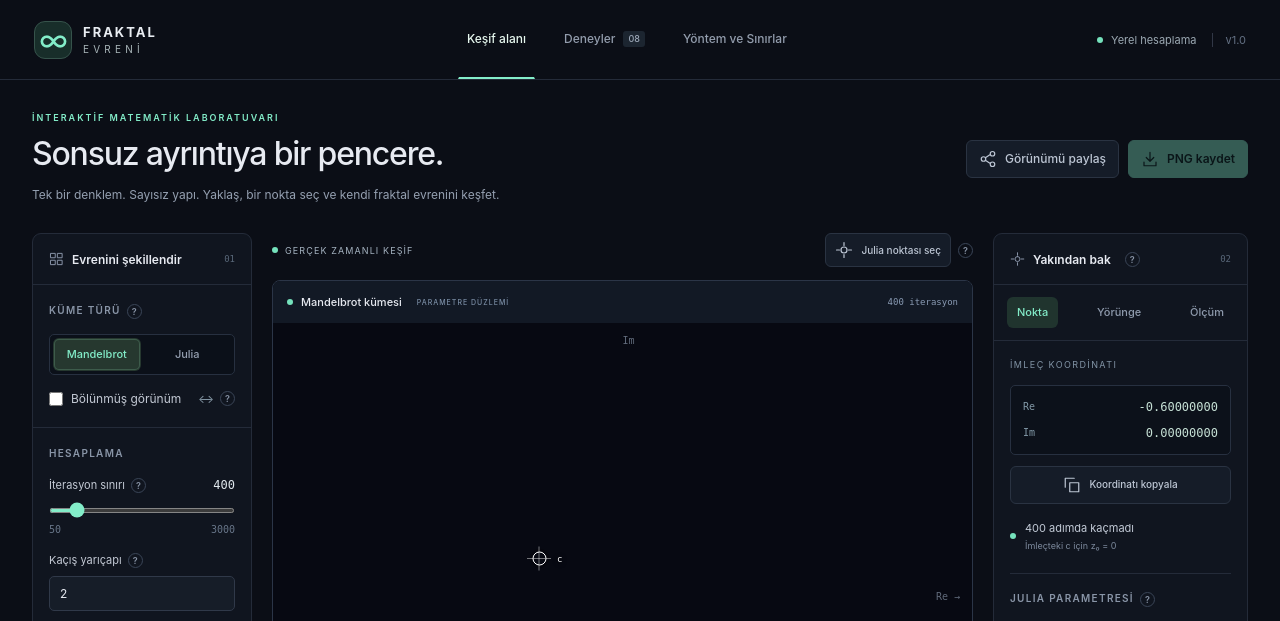
Test: UI davranışı › sekiz deney ve deneyden keşfe geçiş
What coordinates should you click on to do the following:
click the button "Deneyler 08"
I would click on:
 (604, 40)
Its box is 555,0 -> 654,79.
(page scrolled)
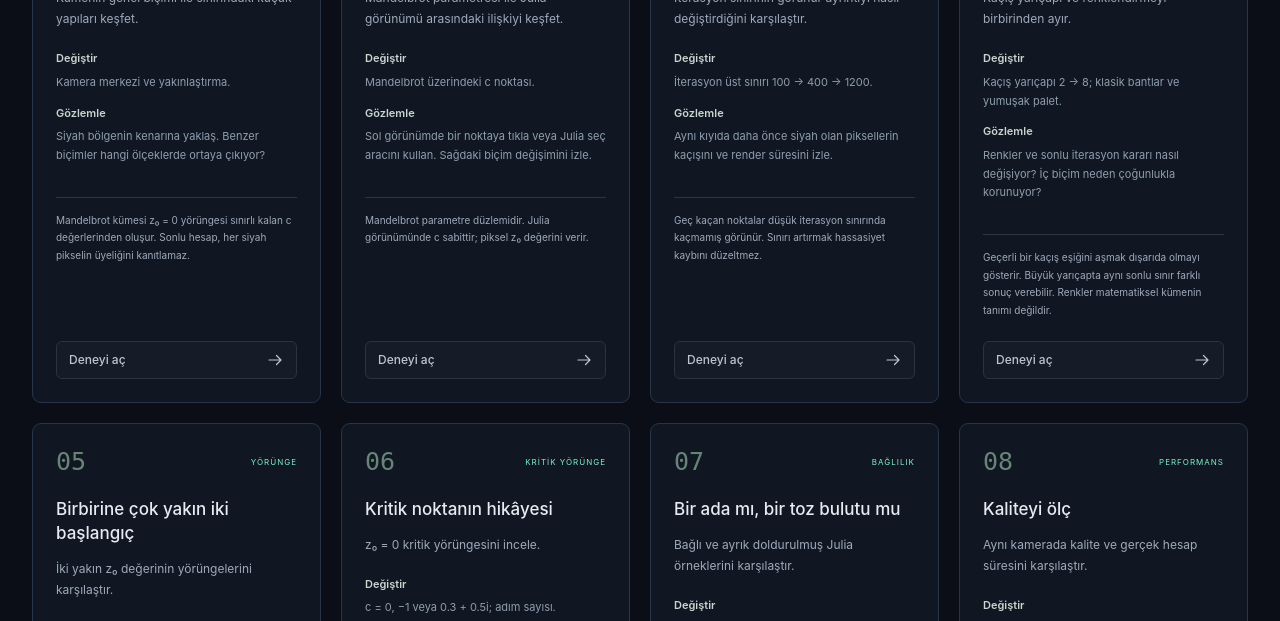
Expected: the number of elements with class "experiment-card" is 8
What coordinates should you click on to do the following:
click the button "Deneyi aç" below "Kamera merkezi ve yakınlaştırma."
I would click on:
 (176, 360)
Its box is 56,341 -> 297,379.
(page scrolled)
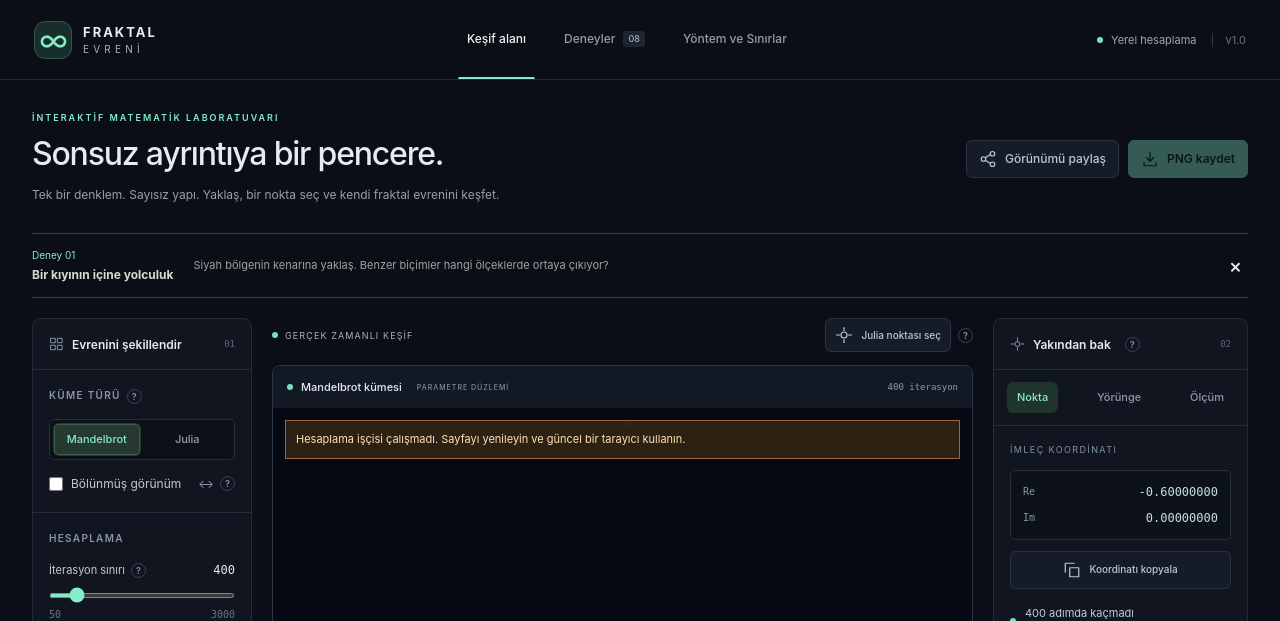
Expected: the element with class "experiment-strip" shows "Bir kıyının içine yolculuk", 32,267 -> 174,282
